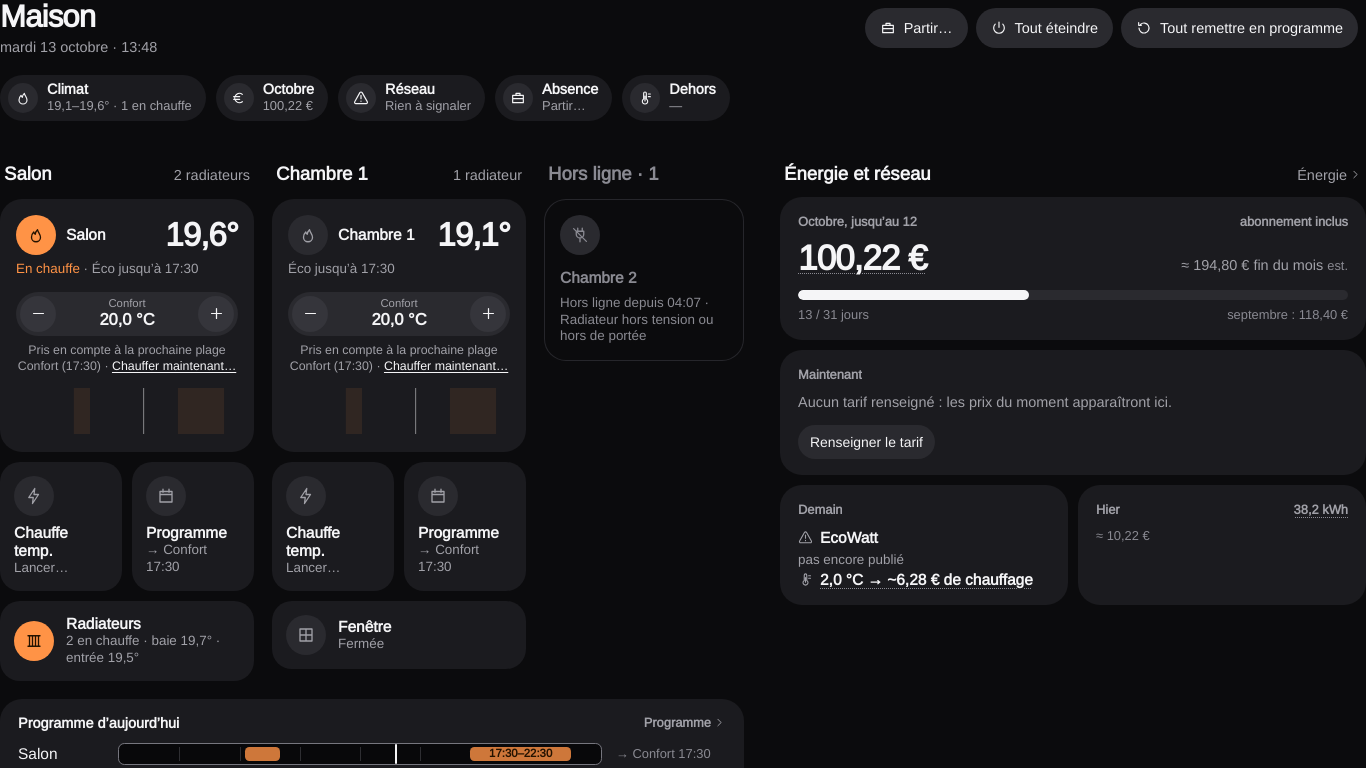
Maison: the outdoor temperature (Plan 14) › says « — » with its reason before the first reading
Click the button with aria-label "Dehors —, détails".
click(676, 98)  # box [622,75,730,121]
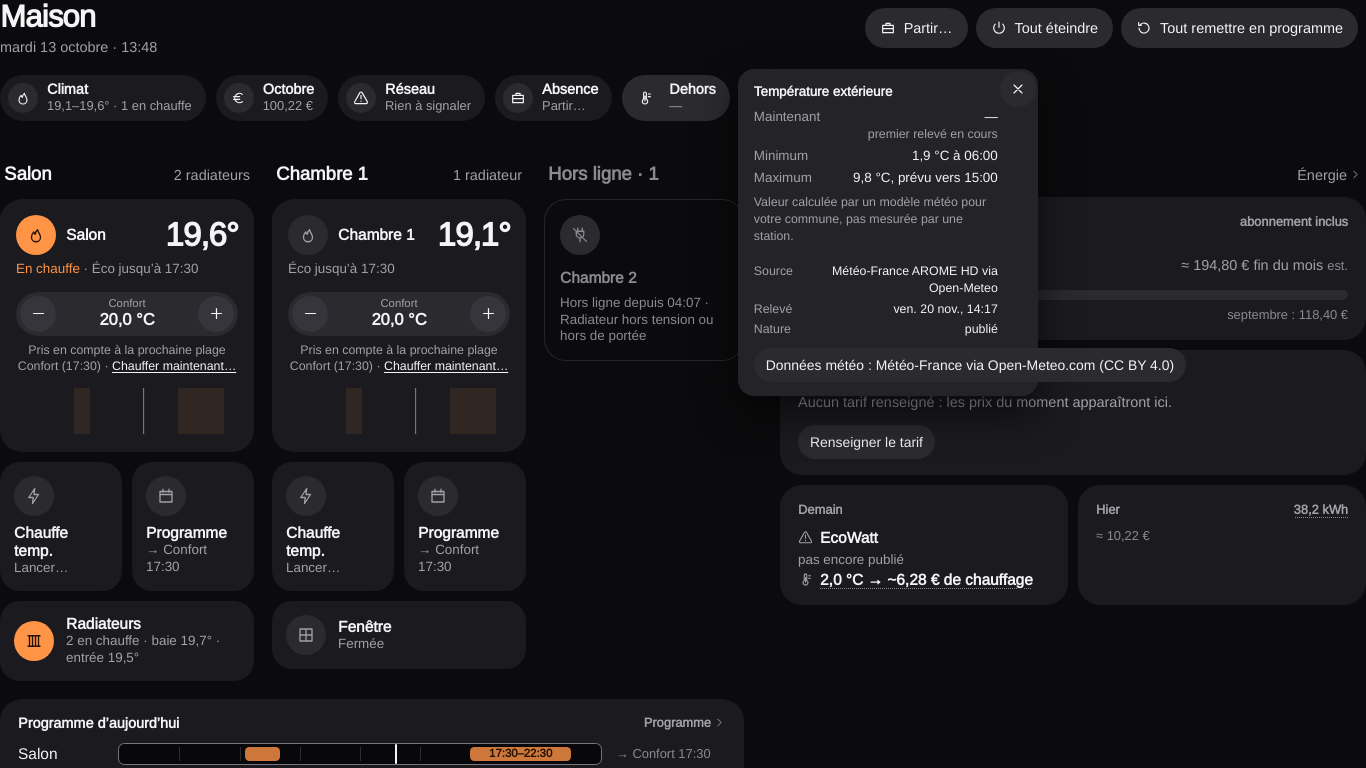
Check: the text "premier relevé en cours" is shown, box [868,126,998,144]
